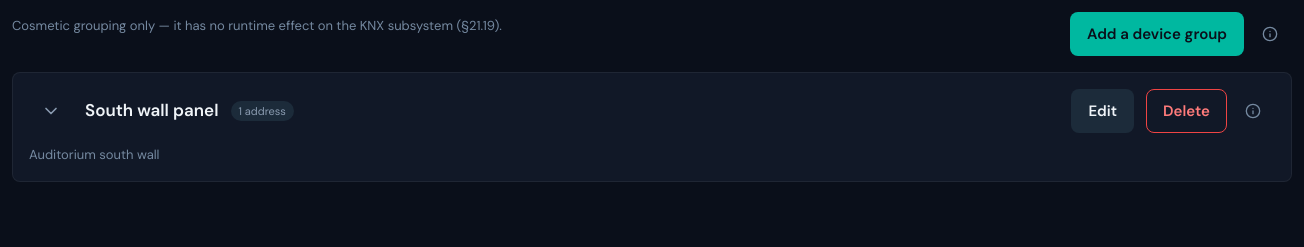
DevicesTab delete protection › expands a group to show its addresses
Click the button named "Expand South wall panel": (51, 111) [29,89,73,133]
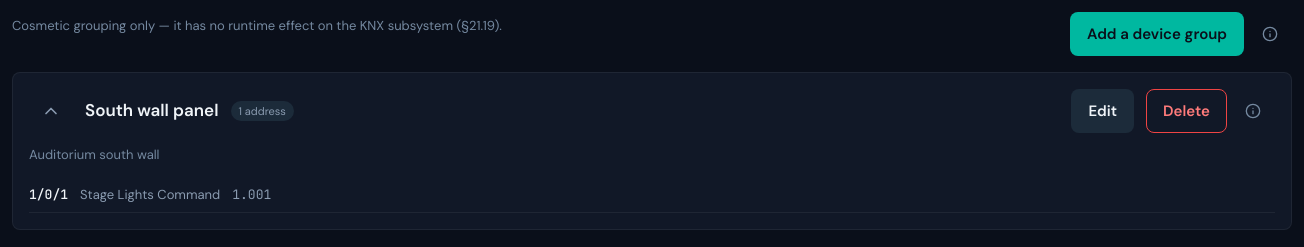
Check: the text "1/0/1" is shown, box [29,184,68,204]
